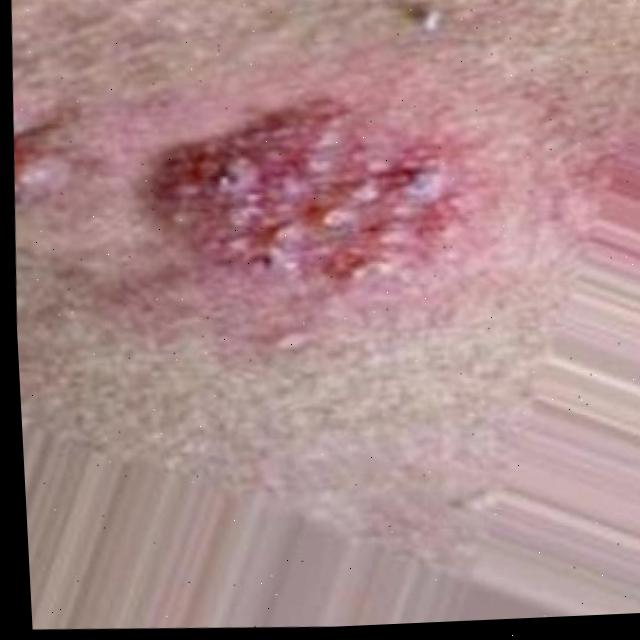Shingles: (137, 99, 462, 286), (10, 114, 53, 194)
